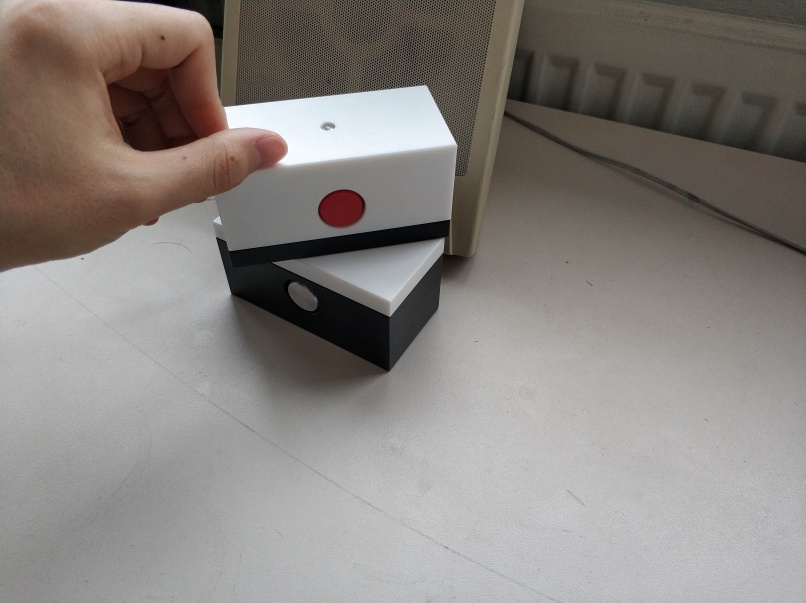black+white+red: (215, 81, 461, 272)
white+black+silver: (211, 209, 447, 374)
